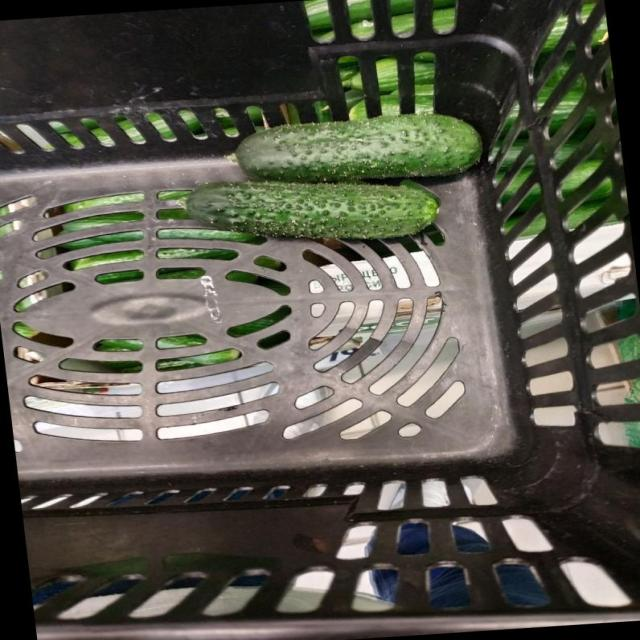Cucumber: (234, 113, 481, 182), (184, 180, 439, 239)
